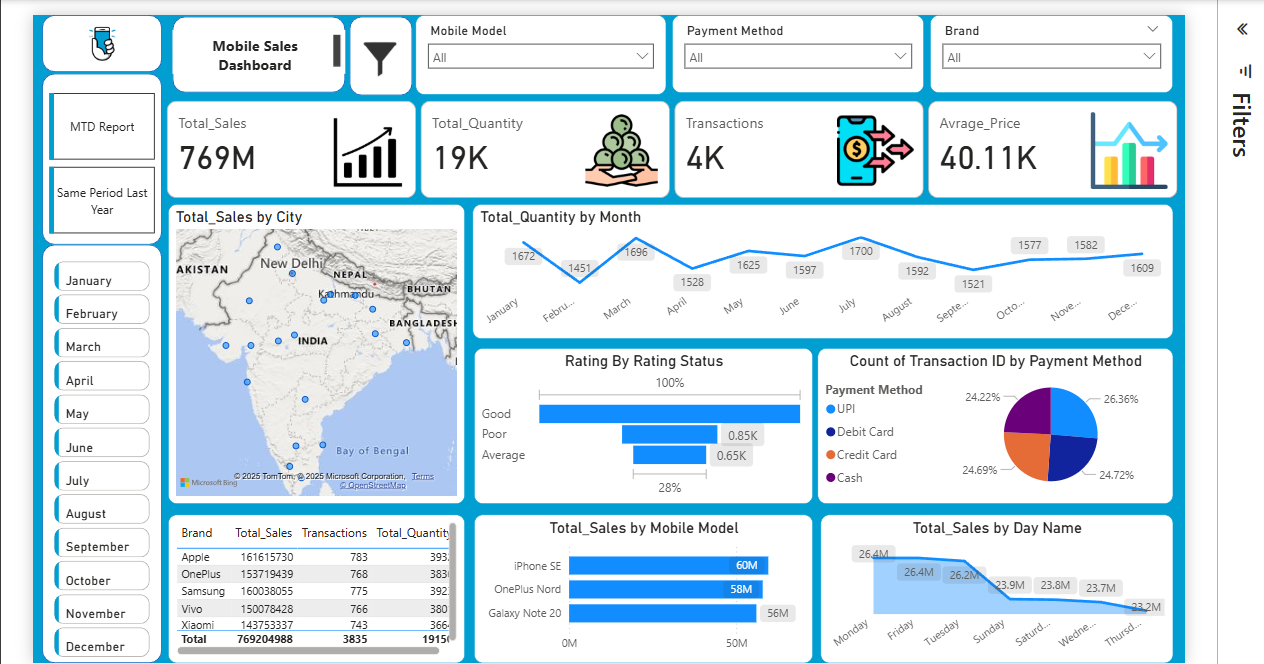

The page's visual inventory and layout, read from the dashboard file:
{"tool":"powerbi","page":{"name":"Dashboard","canvas":[1280,720],"ordinal":0},"visuals":[{"type":"shape","box":[9.8,0,133.4,63.4],"z":0},{"type":"image","box":[17.9,1.6,117.1,63.4],"z":1000},{"type":"shape","box":[9.8,65.1,133.4,190.3],"z":2000},{"type":"shape","box":[9.8,255.4,133.4,465.2],"z":3000},{"type":"advancedSlicerVisual","fields":{"Values":["Custom_Calander.Date.Variation.Date Hierarchy.Month"]},"box":[18.3,268.3,116.7,451.7],"z":4000},{"type":"cardVisual","fields":{"Data":["Mobile_Sales Data.Total_Sales","Mobile_Sales Data.Total_Quantity","Mobile_Sales Data.Transactions","Mobile_Sales Data.Avrage_Price"]},"box":[143.1,89.5,1137,118.7],"z":5000},{"type":"slicer","fields":{"Values":["Mobile_Sales Data.Mobile Model"]},"box":[425,0,278.3,88.3],"z":6000},{"type":"slicer","fields":{"Values":["Mobile_Sales Data.Payment Method"]},"box":[710,0,280,86.7],"z":7000},{"type":"slicer","fields":{"Values":["Mobile_Sales Data.Brand"]},"box":[996.7,0,270,86.7],"z":8000},{"type":"map","fields":{"Category":["Mobile_Sales Data.City"],"Y":["Mobile_Sales Data.Total_Sales"]},"box":[150,210,330,333.3],"z":9000},{"type":"shape","box":[351.3,1.6,69.9,87.8],"z":10000},{"type":"image","box":[346.5,16.3,78.1,69.9],"z":11000},{"type":"shape","box":[154.5,1.6,191.9,84.6],"z":12000},{"type":"textbox","box":[154.5,16.3,191.9,48.8],"z":13000},{"type":"lineChart","fields":{"Category":["Custom_Calander.Date.Variation.Date Hierarchy.Month"],"Y":["Mobile_Sales Data.Total_Quantity"]},"box":[488.3,210,778.3,150],"z":14000},{"type":"funnel","title":"Rating By Rating Status","fields":{"Y":["CountNonNull(Mobile_Sales Data.Customer Ratings)"],"Category":["Mobile_Sales Data.Rating Status"]},"box":[490,370,376.7,173.3],"z":15000},{"type":"pieChart","fields":{"Y":["CountNonNull(Mobile_Sales Data.Transaction ID)"],"Category":["Mobile_Sales Data.Payment Method"]},"box":[871.7,370,395,173.3],"z":16000},{"type":"barChart","fields":{"Y":["Mobile_Sales Data.Total_Sales"],"Category":["Mobile_Sales Data.Mobile Model"]},"box":[490,555,376.7,165],"z":17000},{"type":"areaChart","fields":{"Y":["Mobile_Sales Data.Total_Sales"],"Category":["Custom_Calander.Day Name"]},"box":[875,555,391.7,165],"z":18000},{"type":"tableEx","fields":{"Values":["Mobile_Sales Data.Brand","Mobile_Sales Data.Total_Sales","Mobile_Sales Data.Transactions","Mobile_Sales Data.Total_Quantity"]},"box":[150,555,330,165],"z":19000},{"type":"pageNavigator","box":[18.4,86.2,117.2,156.3],"z":20001}]}

Visuals, with their boxes in screenshot pixels (x1, y1, x2, y2):
shape: bbox=(35, 10, 157, 68)
image: bbox=(43, 11, 149, 69)
shape: bbox=(35, 69, 157, 242)
shape: bbox=(35, 242, 157, 663)
advancedSlicerVisual - Custom_Calander.Date.Variation.Date Hierarchy.Month: bbox=(43, 254, 149, 663)
cardVisual - Mobile_Sales Data.Total_Sales x Mobile_Sales Data.Total_Quantity: bbox=(157, 91, 1192, 199)
slicer - Mobile_Sales Data.Mobile Model: bbox=(413, 10, 667, 90)
slicer - Mobile_Sales Data.Payment Method: bbox=(673, 10, 928, 89)
slicer - Mobile_Sales Data.Brand: bbox=(934, 10, 1180, 89)
map - Mobile_Sales Data.City x Mobile_Sales Data.Total_Sales: bbox=(163, 201, 463, 505)
shape: bbox=(346, 11, 410, 91)
image: bbox=(342, 25, 413, 88)
shape: bbox=(167, 11, 342, 88)
textbox: bbox=(167, 25, 342, 69)
lineChart - Custom_Calander.Date.Variation.Date Hierarchy.Month x Mobile_Sales Data.Total_Quantity: bbox=(471, 201, 1180, 338)
"Rating By Rating Status" funnel: bbox=(473, 347, 816, 505)
pieChart - CountNonNull(Mobile_Sales Data.Transaction ID) x Mobile_Sales Data.Payment Method: bbox=(820, 347, 1180, 505)
barChart - Mobile_Sales Data.Total_Sales x Mobile_Sales Data.Mobile Model: bbox=(473, 515, 816, 663)
areaChart - Mobile_Sales Data.Total_Sales x Custom_Calander.Day Name: bbox=(823, 515, 1180, 663)
tableEx - Mobile_Sales Data.Brand x Mobile_Sales Data.Total_Sales: bbox=(163, 515, 463, 663)
pageNavigator: bbox=(43, 88, 150, 231)
